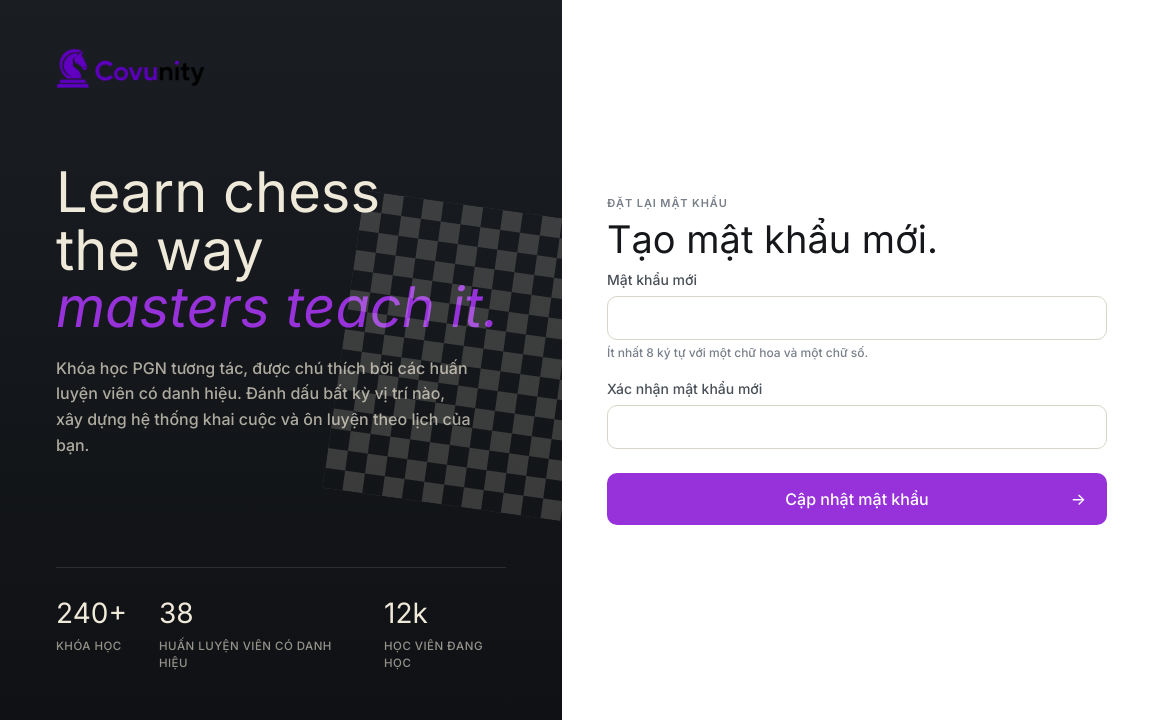
Scenario: ResetPasswordPage › shows password too short error
Type "short" into the password field labelled "Mật khẩu mới" at (857, 318), box [607, 296, 1107, 340]
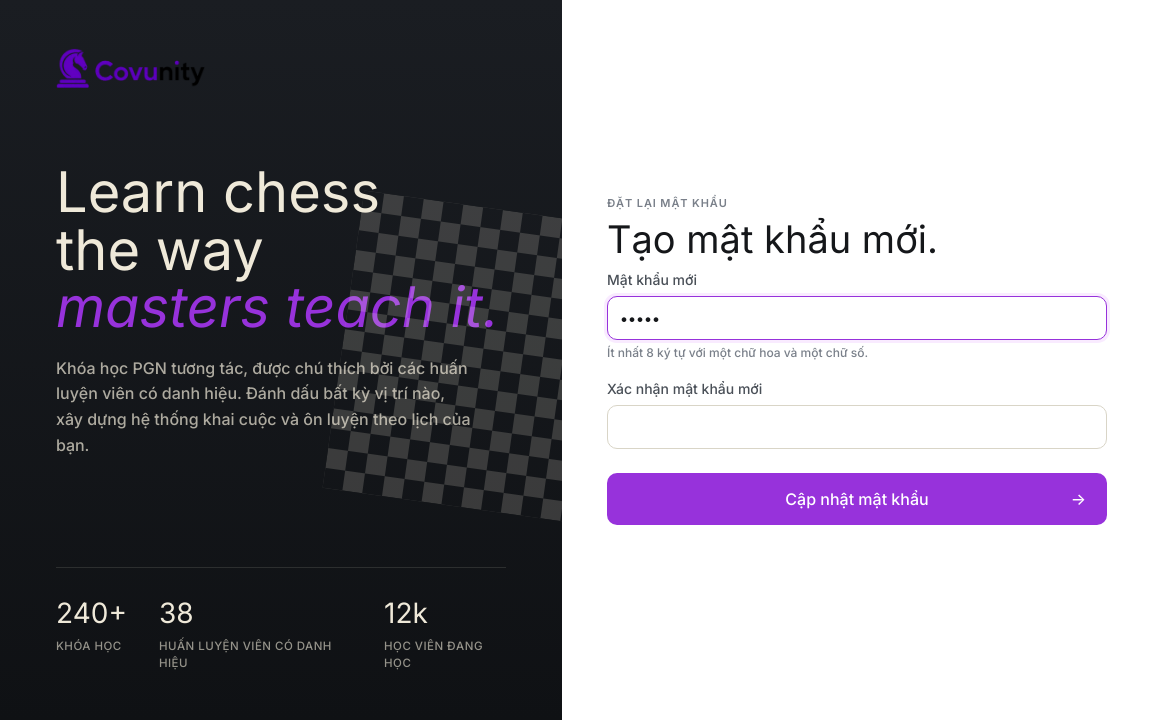
Click the button "Cập nhật mật khẩu →" at (857, 499), box [607, 473, 1107, 525]
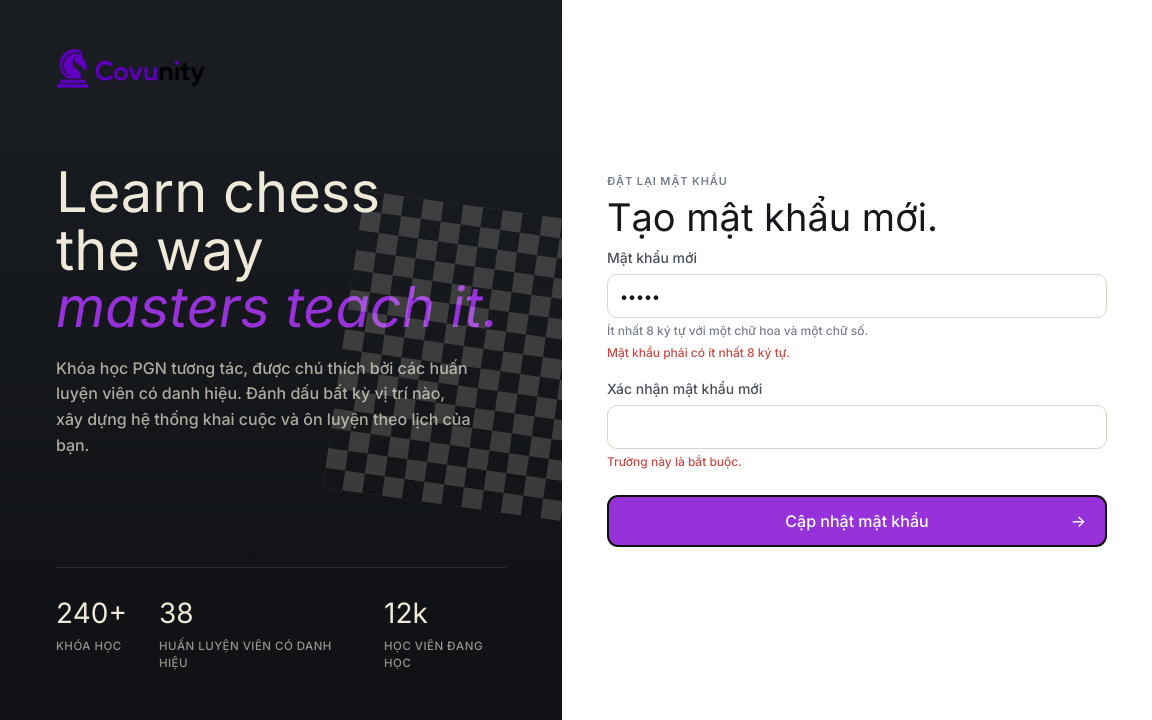
Expected: the text "Mật khẩu phải có ít nhất 8 ký tự." is shown, [607, 345, 790, 360]
